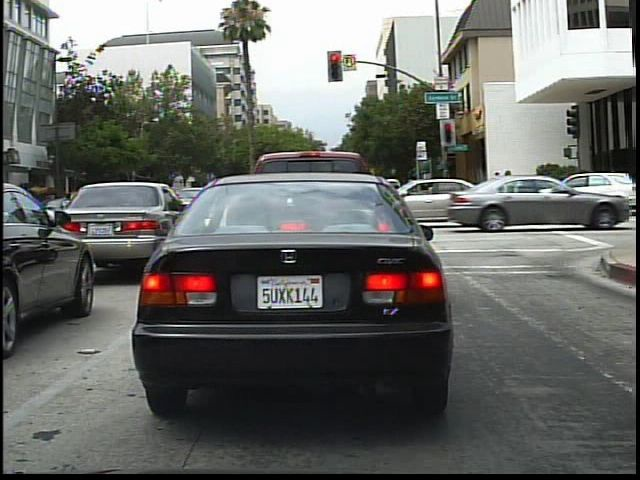person: (485, 168, 506, 211), (501, 165, 521, 209)
